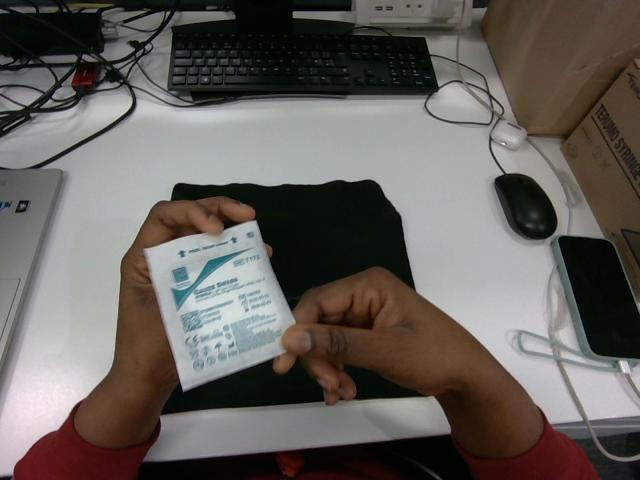gauze: (145, 221, 294, 390)
